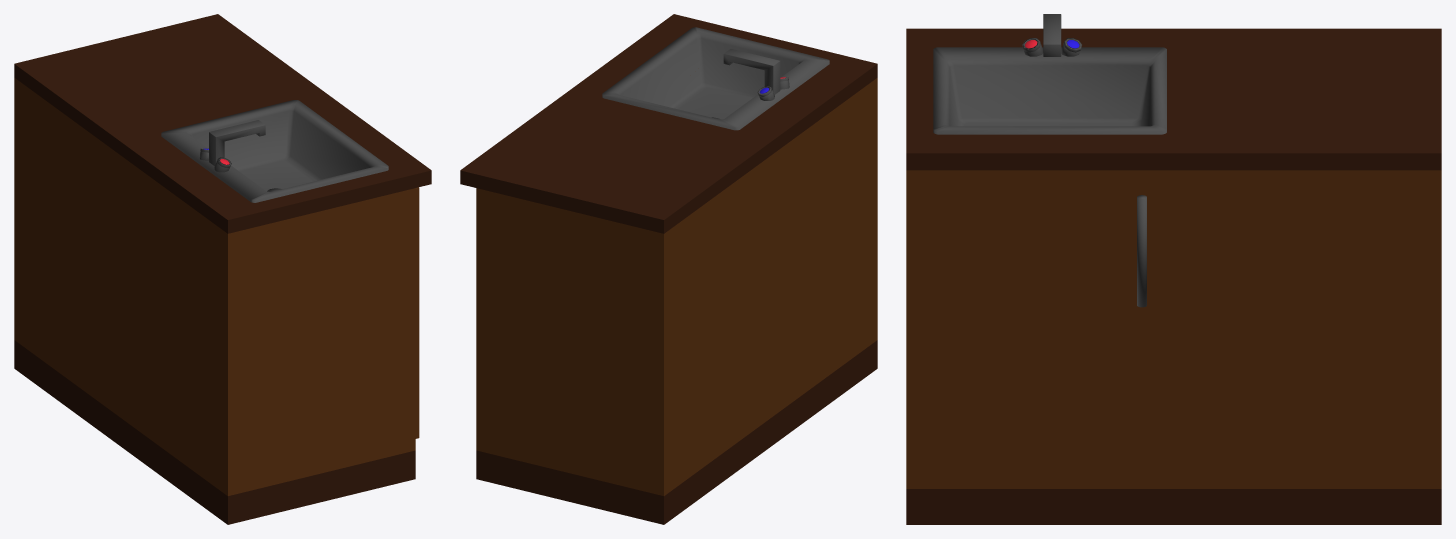
The model's file is mesa-cocina-3.fbx.
3 views of the same model, side by side, from view 1: azimuth 30°, elevation 25°; view 2: azimuth 150°, elevation 25°; view 3: azimuth 270°, elevation 25° (orthographic). The views are drawn at different scales.
Parts seen in each view (by area): view 1: base, sink, tap, Puerta; view 2: base, sink, tap; view 3: base, Puerta, sink, tap.
Boxes of the visible parts, box(x1,y1,x2,y2) form: base: box(14, 14, 431, 524); sink: box(161, 100, 388, 202); tap: box(199, 120, 265, 172); Puerta: box(415, 187, 419, 438); base: box(460, 14, 877, 524); sink: box(602, 27, 829, 130); tap: box(723, 49, 789, 100); base: box(906, 28, 1441, 524); Puerta: box(915, 170, 1167, 483); sink: box(933, 47, 1166, 134); tap: box(1022, 14, 1081, 56).
Size of the model in its own units: 61.94 by 94.69 by 109.
